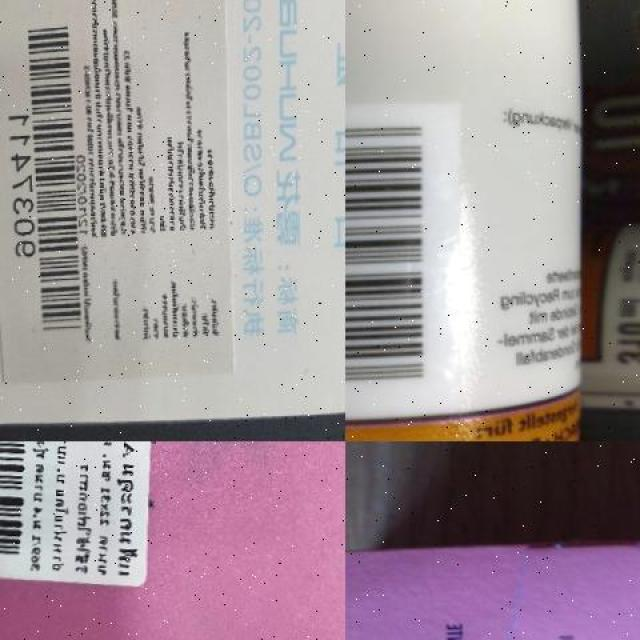Barcode: (2, 3, 86, 349), (346, 116, 442, 416), (0, 441, 33, 583)
